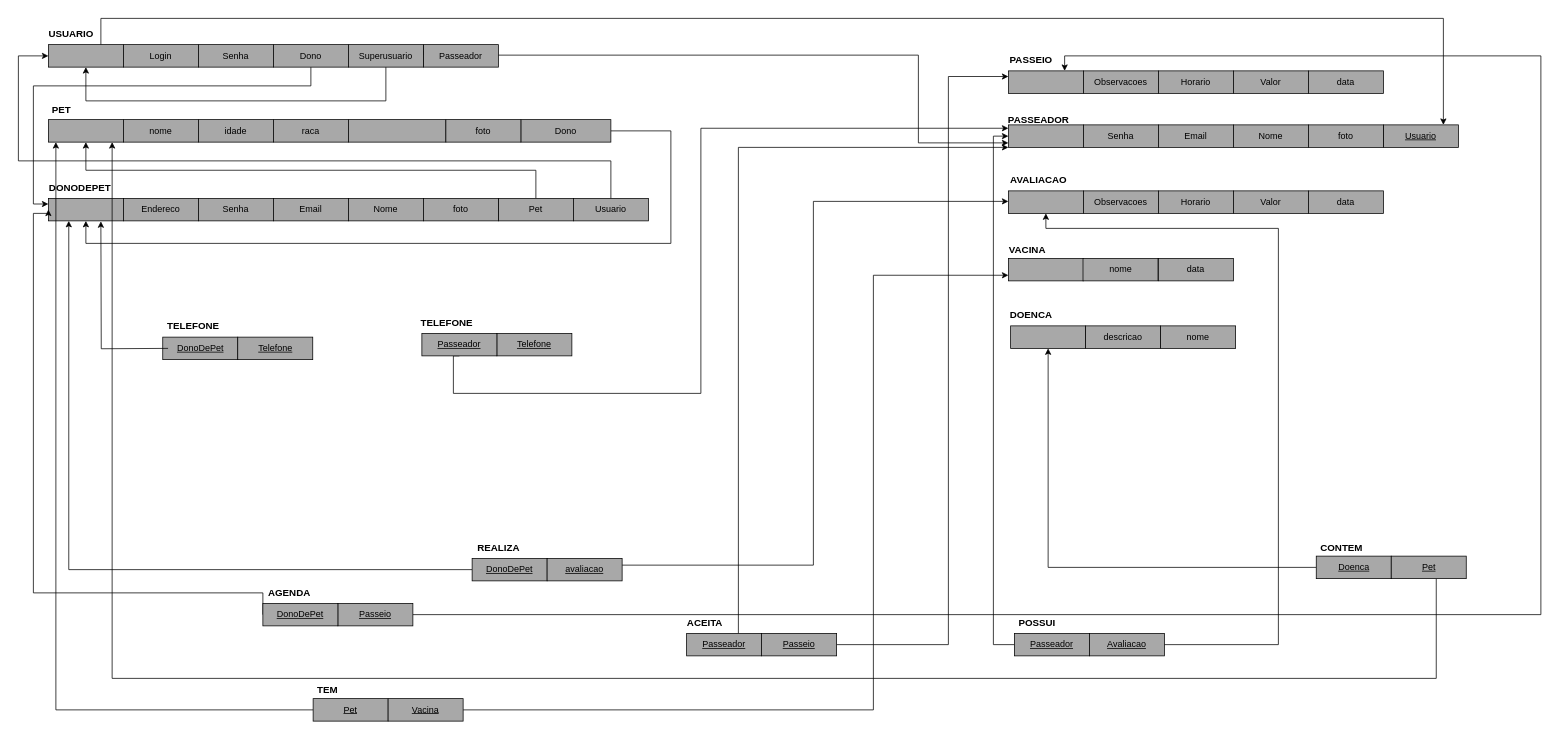
This 1560x734 diagram has some shape labels left out. Here are the shapes that lost their labels. From the top down, the centre of each, then its label:
the point at 85,55: Idusuario
the point at 1045,81: idpasseio
the point at 85,130: idpet
the point at 397,130: perfilcomportamental
the point at 1045,135: Cpfpasseador
the point at 85,209: Cpfdono
the point at 1045,201: idavaliacao
the point at 1045,269: Idvacina
the point at 1048,336: Iddoenca
